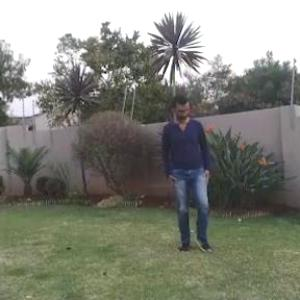follow: (164, 92, 214, 251)
